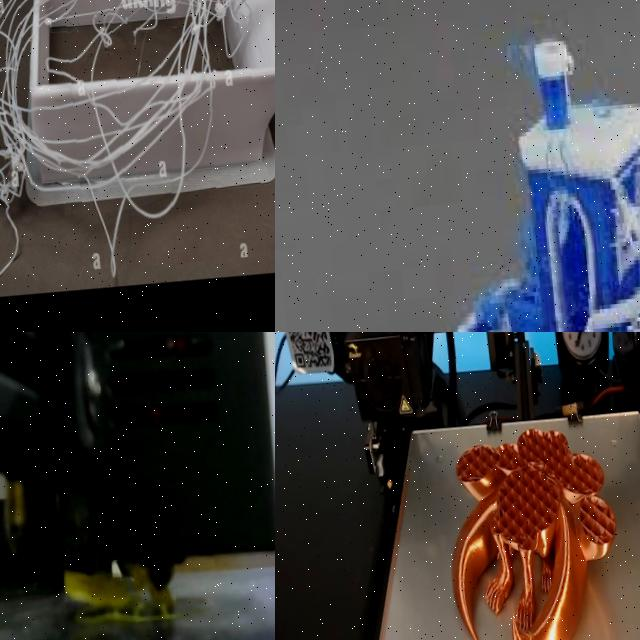spaghetti: (0, 0, 275, 284), (63, 561, 174, 621), (459, 250, 506, 332), (506, 201, 544, 299), (498, 30, 544, 87)
